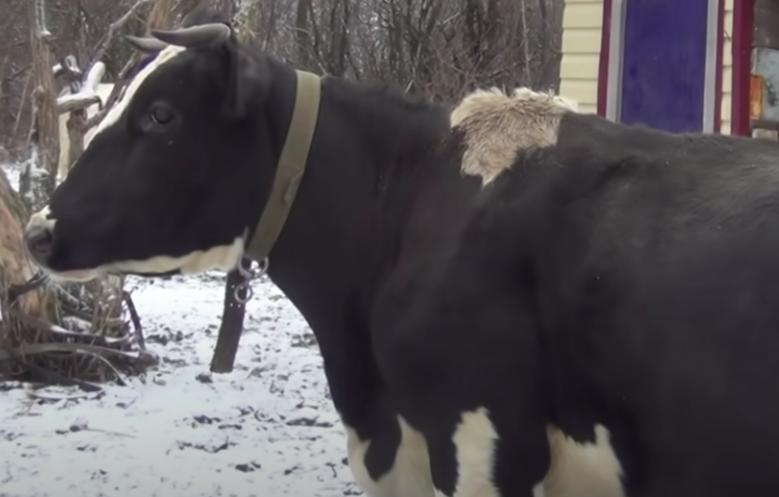cow: (27, 22, 779, 497)
